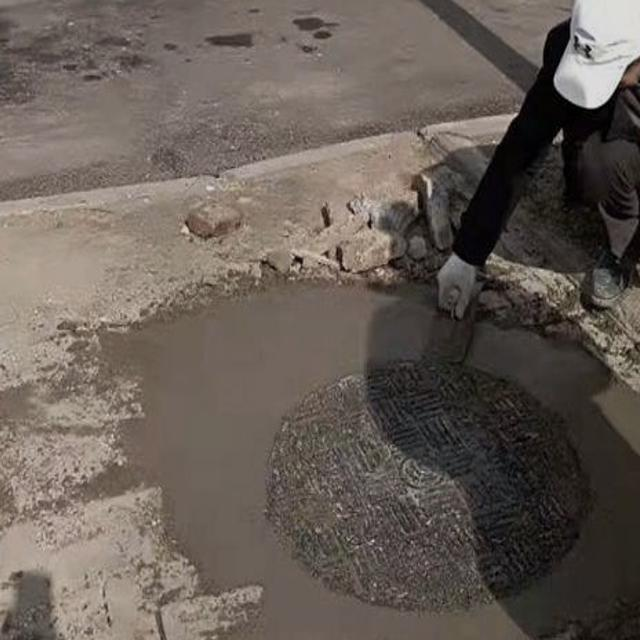good: (142, 270, 640, 640)
